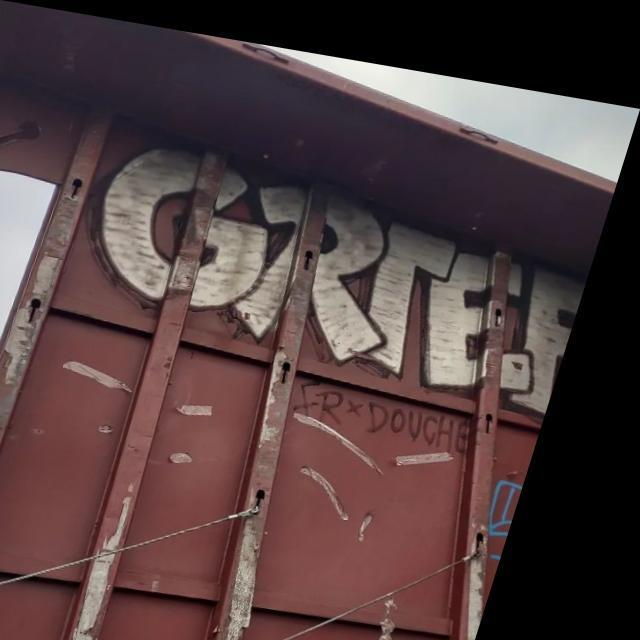-: (62, 110, 618, 405), (301, 359, 509, 443), (476, 436, 552, 612)
